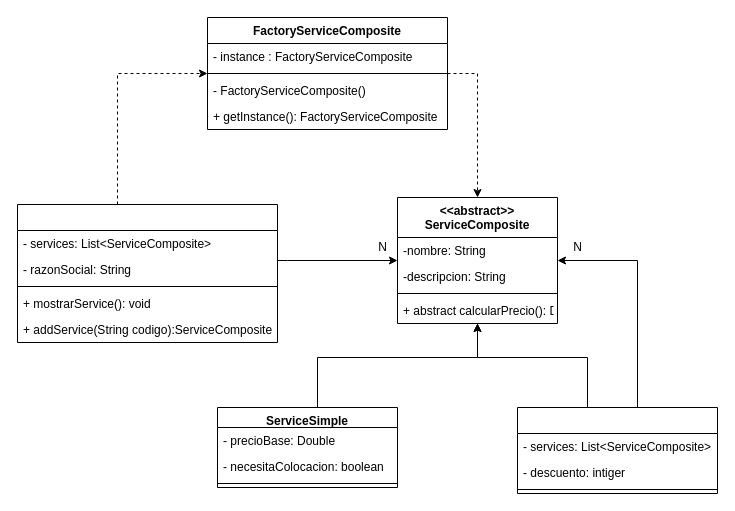
The diagram is 735 pixels wide and 511 high, and some of its shapes have lost their labels. Each missing label, with the box of its shape:
Empresa: (16, 204, 278, 342)
ServiceCombinado: (516, 406, 718, 494)
